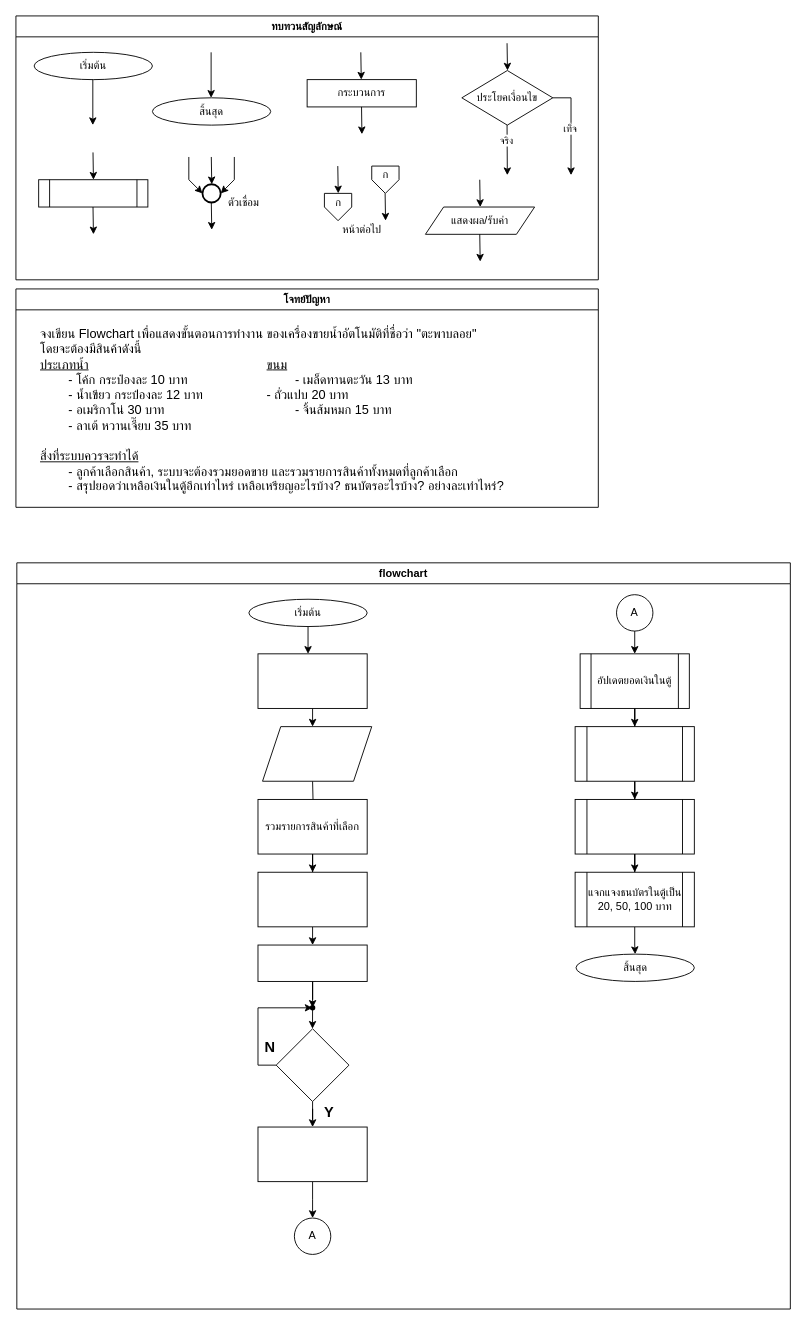
This 806x1325 diagram has some shape labels left out. Each missing label, with the centre of its shape:
คำนวณยอดเงินคงเหลือในตู้: the point at 634,753
จ่ายสินค้า: the point at 312,1154
ฟังก์ชัน/โมดูล: the point at 93,193
รวมราคาสินค้าที่ต้องจ่าย: the point at 312,899
ลูกค้าใส่เงินในช่อง: the point at 312,962
เงินพอมั้ย: the point at 312,1065
เลือกสินค้า: the point at 317,753
แจกแจงเหรียญในตู้เป็น 1, 2, 5,10 บาท: the point at 634,826
แสดงรายการสินค้า: the point at 312,680
